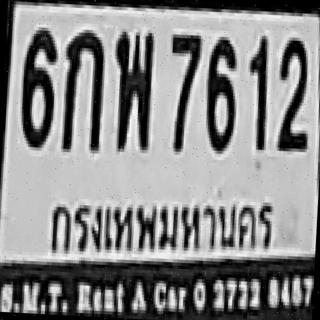A01: (59, 27, 105, 149)
A30: (110, 28, 154, 150)
N01: (244, 34, 270, 148)
N02: (276, 36, 311, 151)
N06: (18, 24, 56, 145), (203, 33, 238, 152)
N07: (165, 31, 202, 150)
P04: (44, 188, 279, 268)
